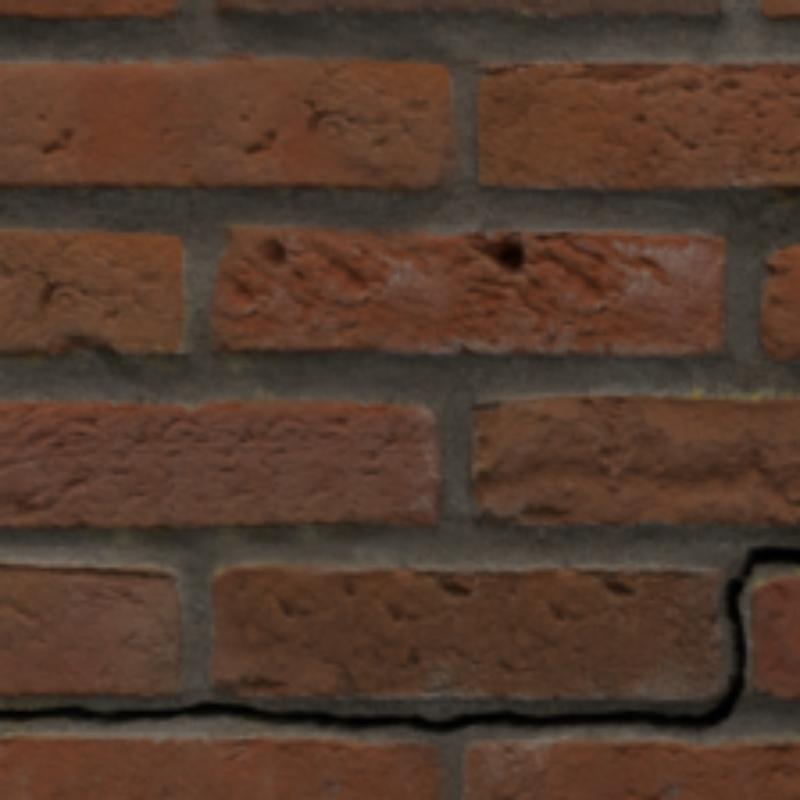pothole: (0, 550, 796, 732)
